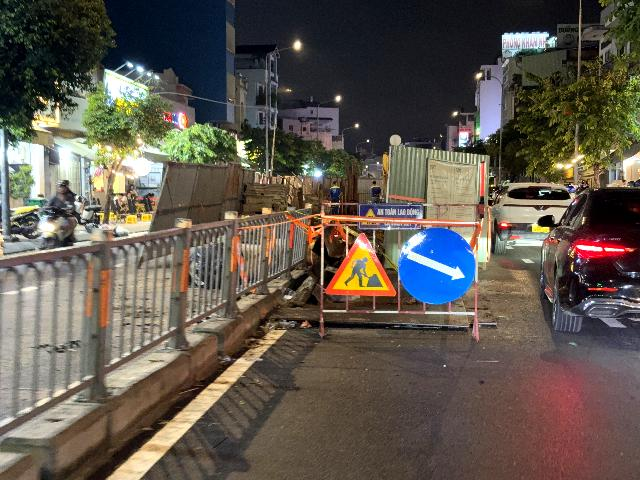cong-truong-dang-thi-cong: (326, 232, 396, 296)
huong-phai-di-vong-chuong-ngai-vat: (398, 227, 476, 305)
